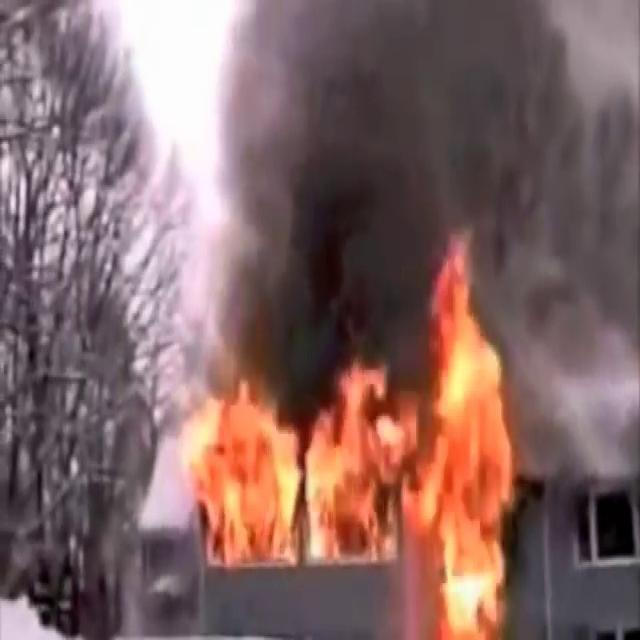Fire: (395, 229, 519, 640), (187, 357, 393, 572)
Smoke: (190, 0, 636, 373)
